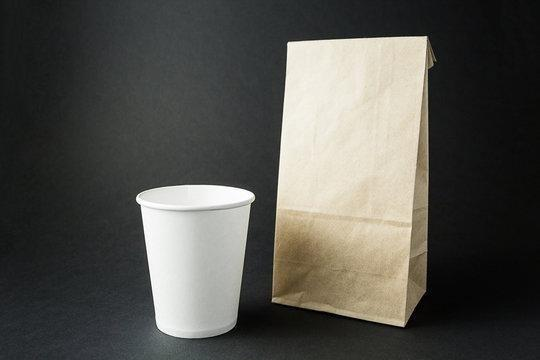cup-disposable: (134, 179, 258, 341)
